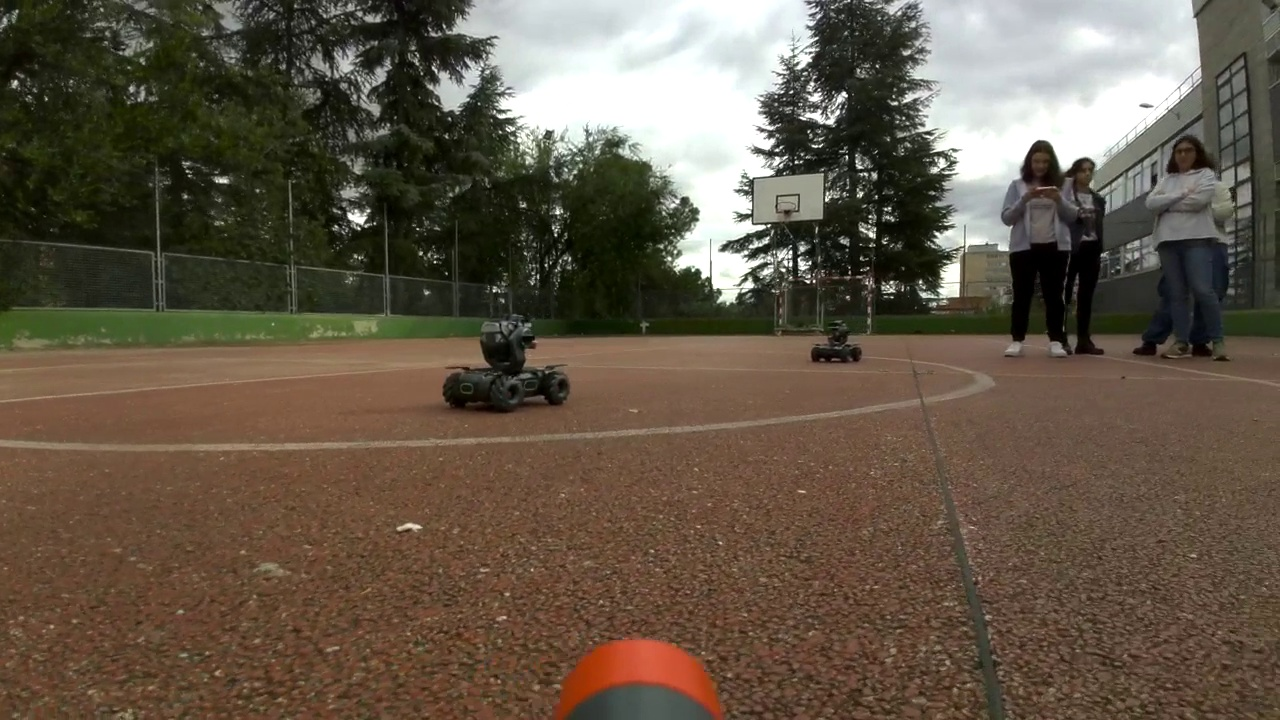robot: (441, 311, 571, 413), (812, 321, 860, 364)
